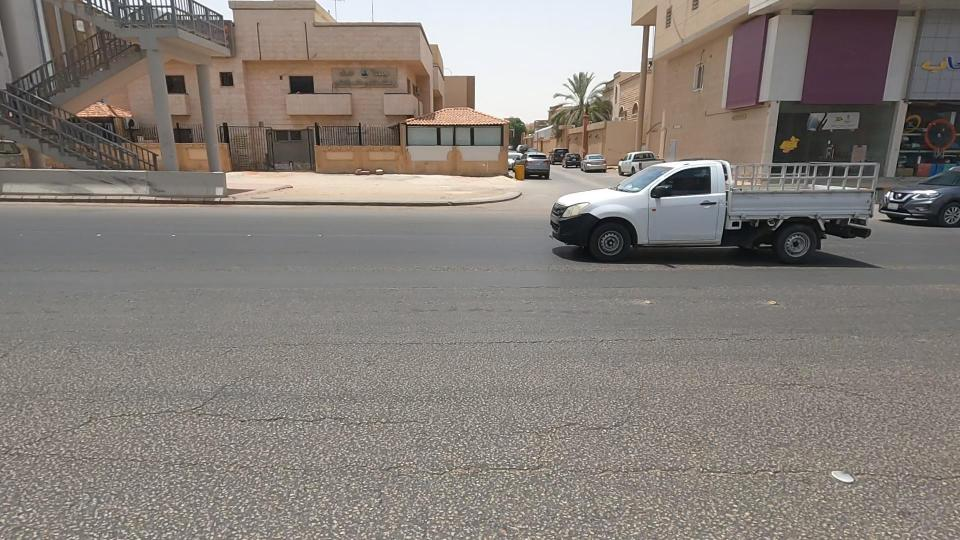BAD_BILLBOARD: (281, 37, 462, 113)
